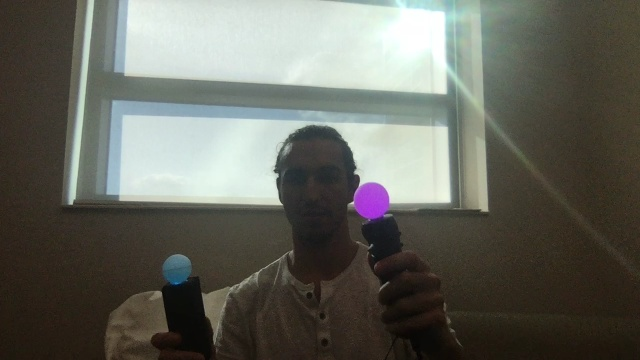wand: (354, 183, 391, 219), (162, 253, 193, 284)
